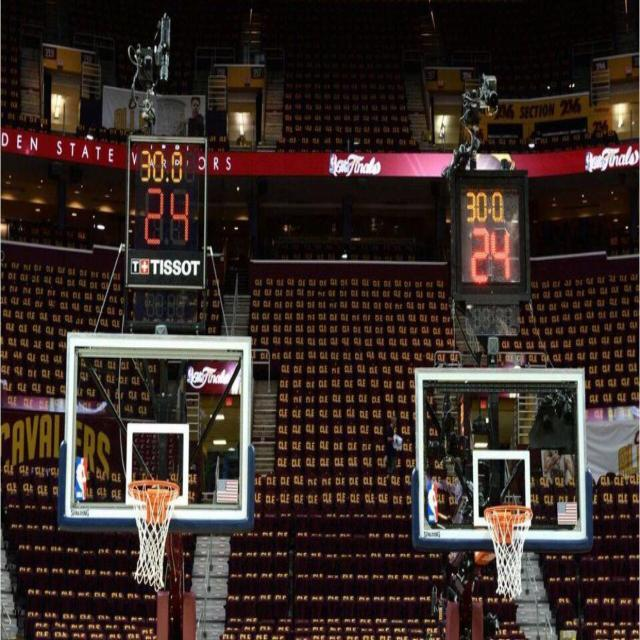hoop: (128, 480, 180, 592), (484, 506, 534, 600)
